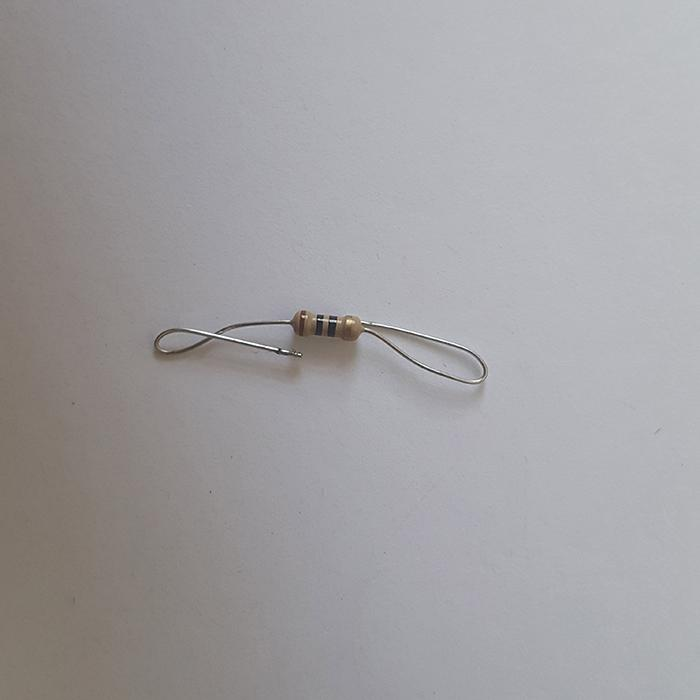resistor: (292, 309, 363, 340)
